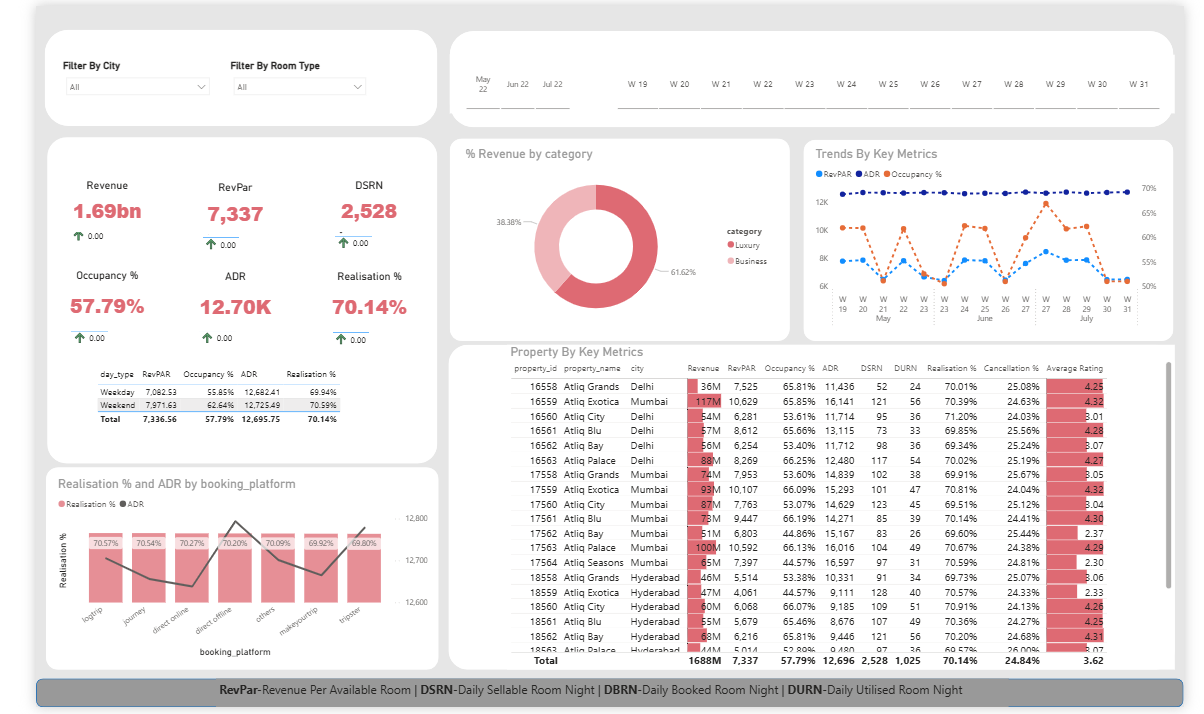

Layout of this report page (visuals, bound fields, positions):
{"tool":"powerbi","page":{"name":"Page 1","canvas":[1800,1100],"ordinal":0},"visuals":[{"type":"shape","box":[647.5,532.2,1139.2,509.8],"z":0},{"type":"shape","box":[16.1,724.3,615.7,317.6],"z":1000},{"type":"shape","box":[1204.3,210.6,580.4,315.7],"z":2000},{"type":"shape","box":[649.4,208.6,533.3,317.6],"z":3000},{"type":"shape","box":[18,206.7,611.8,511.8],"z":4000},{"type":"shape","box":[649.4,40,1135.3,151],"z":5000},{"type":"shape","box":[14.1,38,615.7,151],"z":6000},{"type":"tableEx","title":"Property By Key Metrics","fields":{"Values":["dim_hotels.property_id","dim_hotels.property_name","dim_hotels.city","key_measures.Revenue","key_measures.RevPAR","key_measures.Occupancy %","key_measures.ADR","key_measures.DSRN","key_measures.DURN","key_measures.Realisation %","key_measures.Cancellation %","key_measures.Average Rating"]},"box":[739.6,532.2,1047.1,509.8],"z":7000},{"type":"slicer","title":"Filter By City","fields":{"Values":["dim_hotels.city"]},"box":[37.6,85.1,245.1,82.4],"z":8000},{"type":"slicer","title":"Filter By Room Type","fields":{"Values":["dim_rooms.room_class"]},"box":[300.4,85.1,227.5,82.4],"z":9000},{"type":"slicer","title":"Filter By City","fields":{"Values":["dim_date.mmm yy"]},"box":[649.4,75.5,211.8,92.2],"z":10000},{"type":"slicer","title":"Filter By City","fields":{"Values":["dim_date.week no"]},"box":[886.3,75.5,900,92.2],"z":11000},{"type":"donutChart","title":"% Revenue by category","fields":{"Y":["key_measures.Revenue"],"Category":["dim_hotels.category"]},"box":[669,222.4,494.1,290.2],"z":12000},{"type":"lineChart","title":"Trends By Key Metrics","fields":{"Category":["dim_date.mmm yy.Variation.Date Hierarchy.Month","dim_date.week no"],"Y":["key_measures.RevPAR","key_measures.ADR"],"Y2":["key_measures.Occupancy %"]},"box":[1218,222.4,545.1,290.2],"z":13000},{"type":"lineStackedColumnComboChart","fields":{"Category":["fact_bookings.booking_platform"],"Y":["key_measures.Realisation %"],"Y2":["key_measures.ADR"]},"box":[29.8,740,590.2,286.3],"z":14000},{"type":"tableEx","fields":{"Values":["dim_date.day_type","key_measures.RevPAR","key_measures.Occupancy %","key_measures.ADR","key_measures.Realisation %"]},"box":[90.6,561.6,494.1,143.1],"z":15000},{"type":"tableEx","title":"Revenue","fields":{"Values":["key_measures.Revenue WoW change %"]},"box":[47.3,316.5,129.4,64.7],"z":16000},{"type":"tableEx","title":"Revenue","fields":{"Values":["key_measures.Revenue WoW change %"]},"box":[255.5,328.6,115.7,82.4],"z":17000},{"type":"tableEx","title":"Revenue","fields":{"Values":["key_measures.Revenue WoW change %"]},"box":[462.6,327.1,121.6,76.5],"z":18000},{"type":"tableEx","title":"Revenue","fields":{"Values":["key_measures.Revenue WoW change %"]},"box":[49.2,475.7,125.5,70.6],"z":19000},{"type":"tableEx","title":"Revenue","fields":{"Values":["key_measures.Revenue WoW change %"]},"box":[248.7,477.3,129.4,70.6],"z":20000},{"type":"tableEx","title":"Revenue","fields":{"Values":["key_measures.Revenue WoW change %"]},"box":[458.7,478,129.4,70.6],"z":21000},{"type":"card","title":"Realisation %","fields":{"Values":["key_measures.Realisation %"]},"box":[445.3,412.8,156.2,97.5],"z":22000},{"type":"card","title":"Revenue","fields":{"Values":["key_measures.Revenue"]},"box":[29.6,270.6,164.7,84.3],"z":23000},{"type":"card","title":"RevPar","fields":{"Values":["key_measures.RevPAR"]},"box":[230,273.7,166.7,84.3],"z":24000},{"type":"card","title":"DSRN","fields":{"Values":["key_measures.DSRN"]},"box":[442,271.4,162.7,84.3],"z":25000},{"type":"card","title":"ADR","fields":{"Values":["key_measures.ADR"]},"box":[222.1,414.4,182.5,97.5],"z":26000},{"type":"card","title":"Occupancy %","fields":{"Values":["key_measures.Occupancy %"]},"box":[41.4,411,141.2,98],"z":27000},{"type":"shape","box":[0,1054.9,1800,45.1],"z":28000},{"type":"textbox","box":[282.4,1054.9,1243.1,45.1],"z":30000}]}

Visuals, with their boxes on the page's 1800x1100 design canvas (x1, y1, x2, y2). These are canvas units, not pixel positions in the 1204x714 screenshot, which may show the page scaled, cropped or inside an application window:
shape: Rect(648, 532, 1787, 1042)
shape: Rect(16, 724, 632, 1042)
shape: Rect(1204, 211, 1785, 526)
shape: Rect(649, 209, 1183, 526)
shape: Rect(18, 207, 630, 718)
shape: Rect(649, 40, 1785, 191)
shape: Rect(14, 38, 630, 189)
"Property By Key Metrics" tableEx: Rect(740, 532, 1787, 1042)
"Filter By City" slicer: Rect(38, 85, 283, 168)
"Filter By Room Type" slicer: Rect(300, 85, 528, 168)
"Filter By City" slicer: Rect(649, 76, 861, 168)
"Filter By City" slicer: Rect(886, 76, 1786, 168)
"% Revenue by category" donutChart: Rect(669, 222, 1163, 513)
"Trends By Key Metrics" lineChart: Rect(1218, 222, 1763, 513)
lineStackedColumnComboChart - fact_bookings.booking_platform x key_measures.Realisation %: Rect(30, 740, 620, 1026)
tableEx - dim_date.day_type x key_measures.RevPAR: Rect(91, 562, 585, 705)
"Revenue" tableEx: Rect(47, 316, 177, 381)
"Revenue" tableEx: Rect(256, 329, 371, 411)
"Revenue" tableEx: Rect(463, 327, 584, 404)
"Revenue" tableEx: Rect(49, 476, 175, 546)
"Revenue" tableEx: Rect(249, 477, 378, 548)
"Revenue" tableEx: Rect(459, 478, 588, 549)
"Realisation %" card: Rect(445, 413, 602, 510)
"Revenue" card: Rect(30, 271, 194, 355)
"RevPar" card: Rect(230, 274, 397, 358)
"DSRN" card: Rect(442, 271, 605, 356)
"ADR" card: Rect(222, 414, 405, 512)
"Occupancy %" card: Rect(41, 411, 183, 509)
shape: Rect(0, 1055, 1800, 1100)
textbox: Rect(282, 1055, 1526, 1100)
